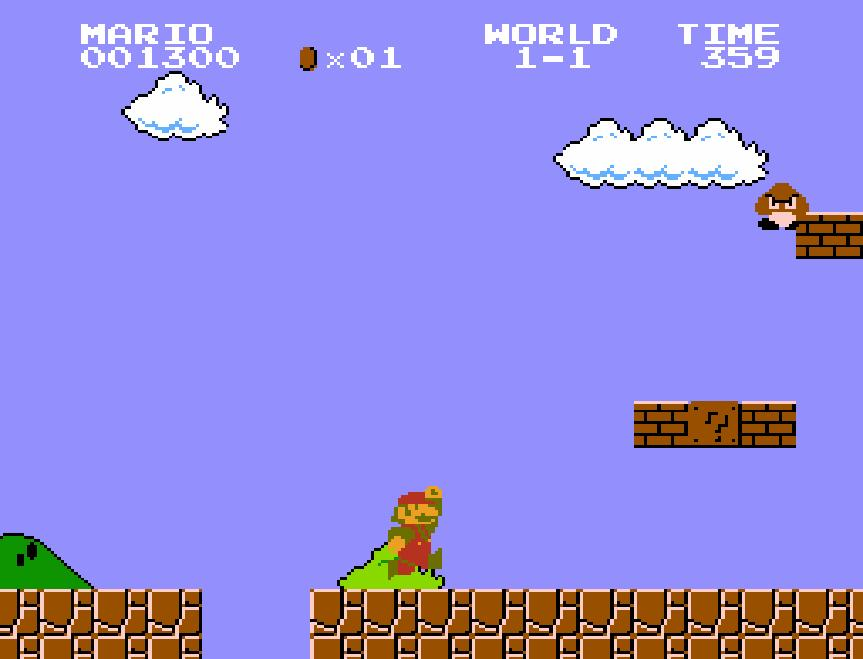big_mario: (386, 484, 444, 582)
